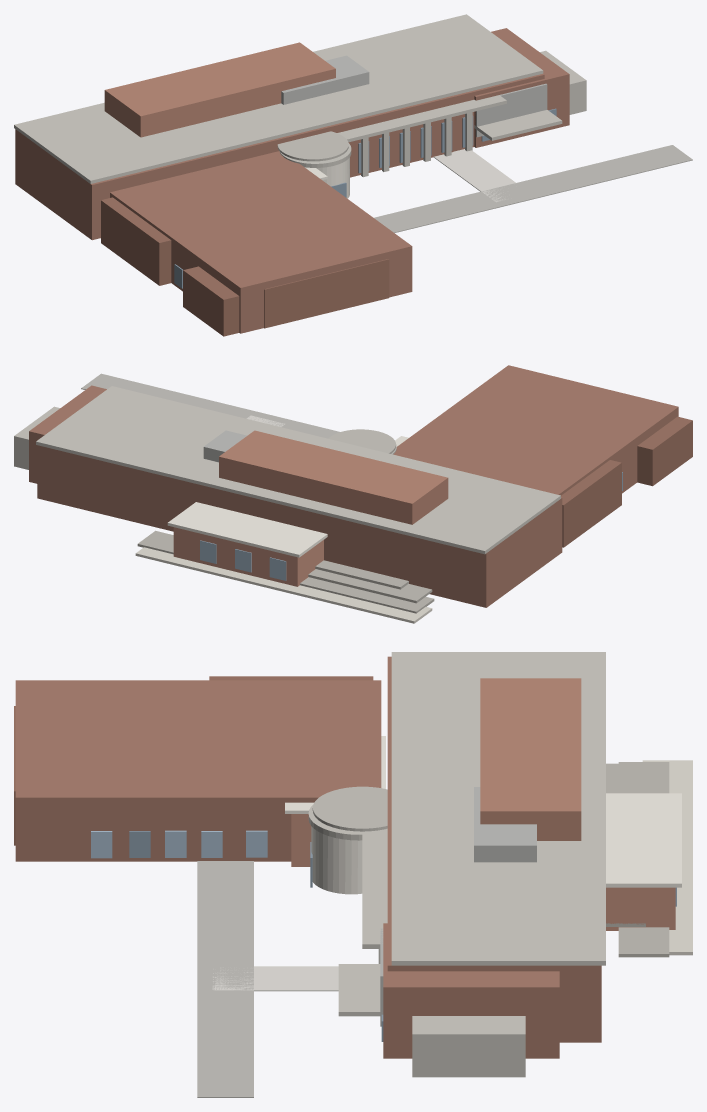
File: schwitzer_student_center_v9.gltf
3 renders of one model, top to bottom at view 1: azimuth 30°, elevation 25°; view 2: azimuth 150°, elevation 25°; view 3: azimuth 270°, elevation 25°, orthographic. The views are drawn at different scales.
Parts seen in each view (by area): view 1: west_stem_main, north_bar_roof_cap, rear_upper_mass, north_bar_main, front_walk, west_stem_south_step, west_side_mass, panel_block_main, southwest_low_mass, east_fin_hall, east_fin_hall_roof, inner_walk (+6 smaller); view 2: north_bar_roof_cap, north_bar_main, west_stem_main, rear_upper_mass, amp_terrace_1 (×2), rear_lower_entry_cap, rear_lower_entry, west_side_mass, southwest_low_mass, front_walk, panel_block_main, amp_terrace_2 (+4 smaller); view 3: west_stem_main, north_bar_roof_cap, rear_upper_mass, front_walk, panel_block_main, rear_lower_entry_cap, far_east_stub, north_bar_main, amp_terrace_1 (×2), east_fin_hall_roof, rotunda_roof_ring, rotunda_cap (+7 smaller).
Part boxes in pixels (<box>): west_stem_main: <box>110,151,412,333</box>; north_bar_roof_cap: <box>14,14,543,183</box>; rear_upper_mass: <box>104,42,335,137</box>; north_bar_main: <box>15,74,544,240</box>; front_walk: <box>374,145,692,232</box>; west_stem_south_step: <box>264,259,389,328</box>; west_side_mass: <box>101,197,171,285</box>; panel_block_main: <box>474,28,569,147</box>; southwest_low_mass: <box>183,266,239,336</box>; east_fin_hall: <box>348,117,453,177</box>; east_fin_hall_roof: <box>337,95,506,142</box>; inner_walk: <box>433,149,515,202</box>; north_bar_roof_cap: <box>36,386,560,554</box>; north_bar_main: <box>37,445,562,607</box>; west_stem_main: <box>393,365,678,495</box>; rear_upper_mass: <box>219,430,448,524</box>; amp_terrace_1 (×2): <box>135,530,434,623</box>; rear_lower_entry_cap: <box>167,502,327,557</box>; rear_lower_entry: <box>173,527,323,586</box>; west_side_mass: <box>561,460,621,547</box>; southwest_low_mass: <box>637,416,692,486</box>; front_walk: <box>81,373,339,438</box>; panel_block_main: <box>29,385,106,483</box>; amp_terrace_2: <box>308,569,432,603</box>; west_stem_main: <box>15,680,381,861</box>; north_bar_roof_cap: <box>391,652,605,965</box>; rear_upper_mass: <box>480,678,581,840</box>; front_walk: <box>197,861,253,1097</box>; panel_block_main: <box>383,923,559,1058</box>; rear_lower_entry_cap: <box>606,793,681,887</box>; far_east_stub: <box>412,1016,525,1077</box>; north_bar_main: <box>387,656,601,1042</box>; amp_terrace_1 (×2): <box>618,760,692,957</box>; east_fin_hall_roof: <box>362,828,387,948</box>; rotunda_roof_ring: <box>312,786,387,831</box>; rotunda_cap: <box>311,826,362,894</box>.
Size of the model in its own units: 137 by 19.95 by 108.
